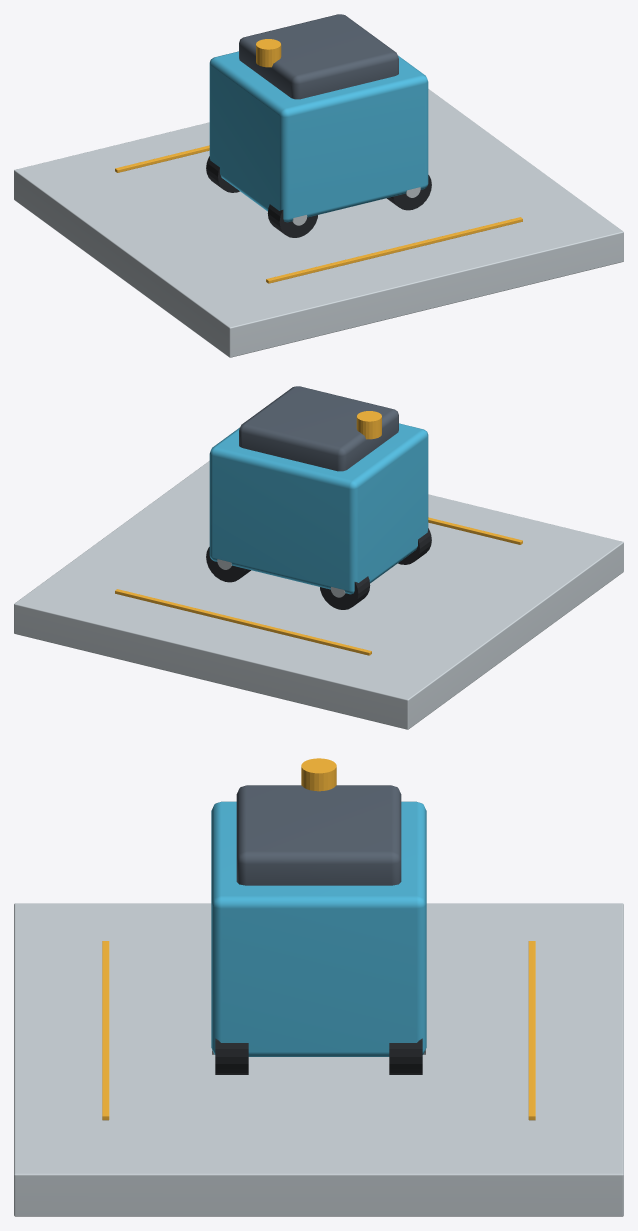
3 renders of one model, top to bottom at view 1: azimuth 30°, elevation 25°; view 2: azimuth 150°, elevation 25°; view 3: azimuth 270°, elevation 25°, orthographic. The views are drawn at different scales.
Visible parts, largest first — view 1: Ground plane, Autonomous platform, Top load interface, Concept clearance guide, Driven wheel / tyre, E-stop button, Driven wheel / tyre.002, Concept clearance guide.001; view 2: Ground plane, Autonomous platform, Top load interface, Concept clearance guide.001, Driven wheel / tyre.001, E-stop button, Driven wheel / tyre.003, Concept clearance guide; view 3: Ground plane, Autonomous platform, Top load interface, Concept clearance guide, Concept clearance guide.001, Driven wheel / tyre.002, Driven wheel / tyre.003, E-stop button.
Part boxes in pixels (bbox=[...]): Ground plane: bbox=[14, 89, 623, 357]; Autonomous platform: bbox=[209, 51, 428, 222]; Top load interface: bbox=[239, 14, 398, 99]; Concept clearance guide: bbox=[266, 217, 522, 283]; Driven wheel / tyre: bbox=[267, 204, 317, 237]; E-stop button: bbox=[256, 39, 281, 67]; Driven wheel / tyre.002: bbox=[387, 175, 431, 210]; Concept clearance guide.001: bbox=[115, 145, 209, 172]; Ground plane: bbox=[14, 461, 623, 729]; Autonomous platform: bbox=[209, 423, 428, 594]; Top load interface: bbox=[239, 386, 398, 471]; Concept clearance guide.001: bbox=[115, 589, 371, 655]; Driven wheel / tyre.001: bbox=[320, 576, 370, 609]; E-stop button: bbox=[356, 411, 381, 439]; Driven wheel / tyre.003: bbox=[206, 547, 250, 582]; Concept clearance guide: bbox=[428, 517, 522, 544]; Ground plane: bbox=[14, 903, 623, 1216]; Autonomous platform: bbox=[211, 801, 426, 1056]; Top load interface: bbox=[236, 785, 401, 885]; Concept clearance guide: bbox=[102, 941, 109, 1120]; Concept clearance guide.001: bbox=[528, 941, 535, 1120]; Driven wheel / tyre.002: bbox=[215, 1038, 248, 1074]; Driven wheel / tyre.003: bbox=[389, 1038, 422, 1074]; E-stop button: bbox=[301, 758, 336, 791].
Size of the model in its own units: 1.63 by 0.785 by 1.55.
